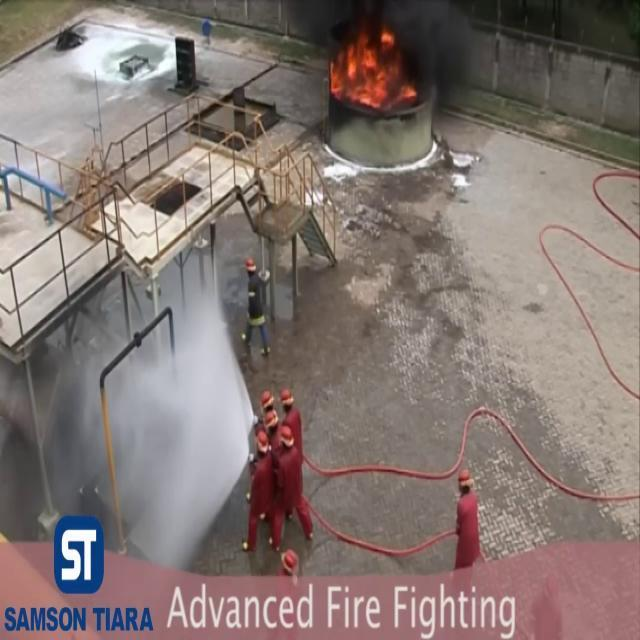Fire: (329, 18, 407, 116)
Smoke: (398, 0, 483, 125)
